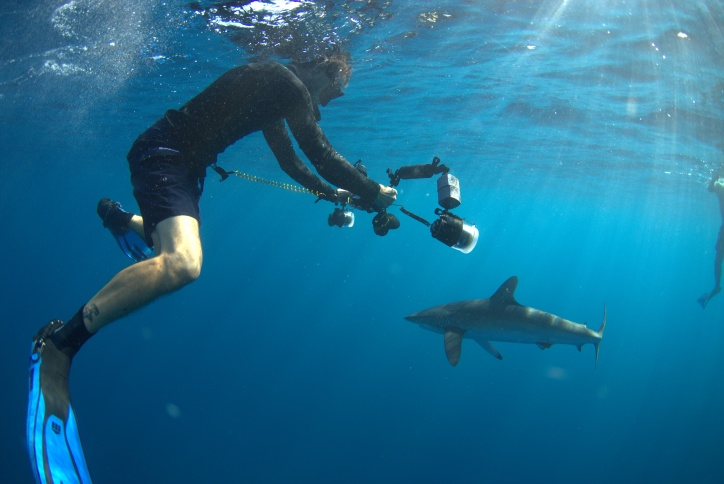Sedoso: (376, 265, 626, 393)
